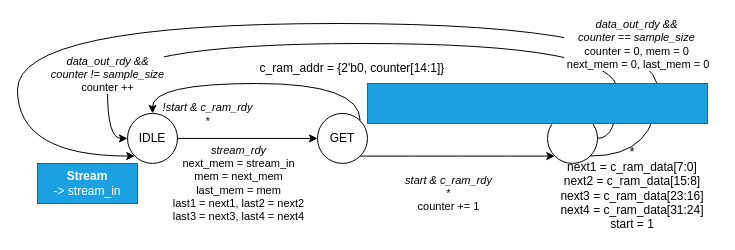
This 735x250 diagram has some shape labels left out. The shapes that lost their labels are listed below. From the top down, each one's centre as x and y in pixels, then its label:
(537,103): Stream data_out {last1,last1,last2,last3,last4,next_mem,mem,last_mem} ->
(572,137): READ
